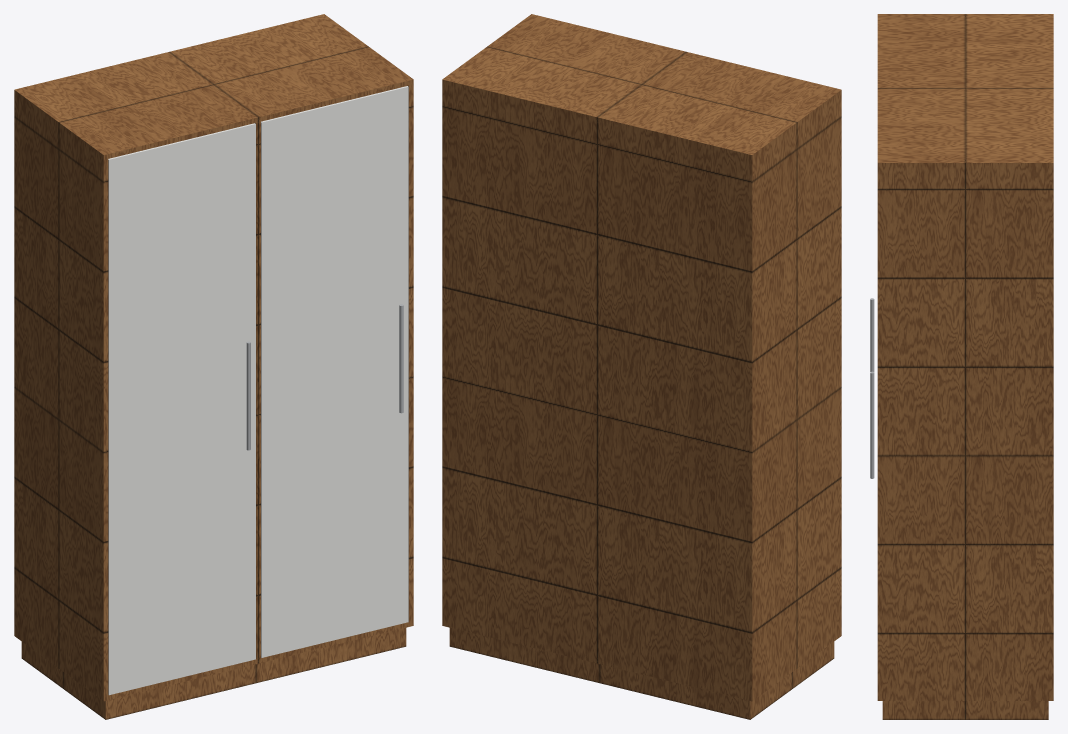
File: Ruhasszekreny_2_ajtos.obj
3 views of the same model, side by side, from view 1: azimuth 30°, elevation 25°; view 2: azimuth 150°, elevation 25°; view 3: azimuth 270°, elevation 25° (orthographic).
Size of the model in its own units: 1.2 by 2.1 by 0.625.
Materials: 3 (1 with a texture image).
